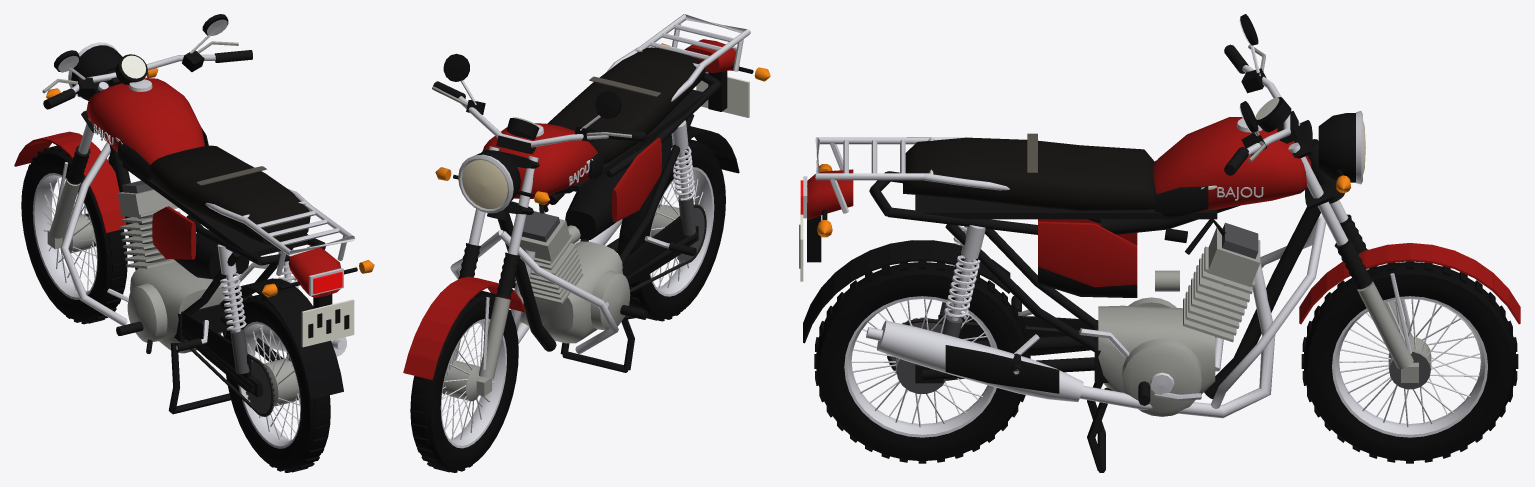
The model's file is veh_zem.glb.
3 renders of one model, left to right at view 1: azimuth 30°, elevation 25°; view 2: azimuth 150°, elevation 25°; view 3: azimuth 270°, elevation 25°, orthographic. The views are drawn at different scales.
Parts seen in each view (by area): view 1: zem_cadre, zem_roue_av, zem_roue_ar, zem_direction, zem_garde_boue_av, zem_bequille; view 2: zem_cadre, zem_direction, zem_roue_av, zem_roue_ar, zem_garde_boue_av, zem_bequille; view 3: zem_cadre, zem_roue_av, zem_roue_ar, zem_direction, zem_garde_boue_av, zem_bequille.
Boxes of the visible parts, x1,y1,x2,y2 form: zem_cadre: [60, 78, 374, 416]; zem_roue_av: [21, 145, 127, 324]; zem_roue_ar: [225, 294, 330, 472]; zem_direction: [42, 14, 252, 238]; zem_garde_boue_av: [14, 131, 126, 249]; zem_bequille: [168, 331, 230, 414]; zem_cadre: [450, 14, 770, 353]; zem_direction: [432, 53, 646, 378]; zem_roue_av: [410, 291, 518, 472]; zem_roue_ar: [618, 139, 725, 321]; zem_garde_boue_av: [403, 276, 525, 396]; zem_bequille: [560, 319, 634, 372]; zem_cadre: [799, 117, 1344, 418]; zem_roue_av: [1301, 261, 1518, 463]; zem_roue_ar: [814, 261, 1030, 463]; zem_direction: [1224, 14, 1413, 368]; zem_garde_boue_av: [1299, 243, 1520, 382]; zem_bequille: [1087, 383, 1112, 472].
Size of the model in its own units: 0.8104 by 1.24 by 2.03.
